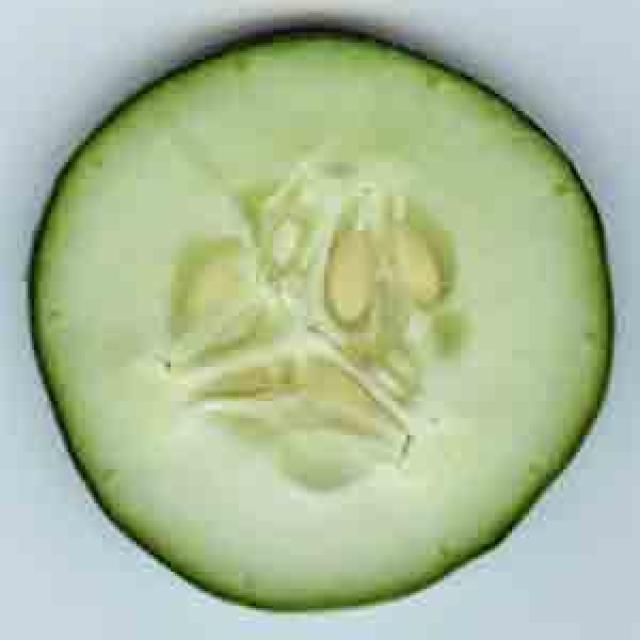Cucumber: (15, 13, 629, 627)
